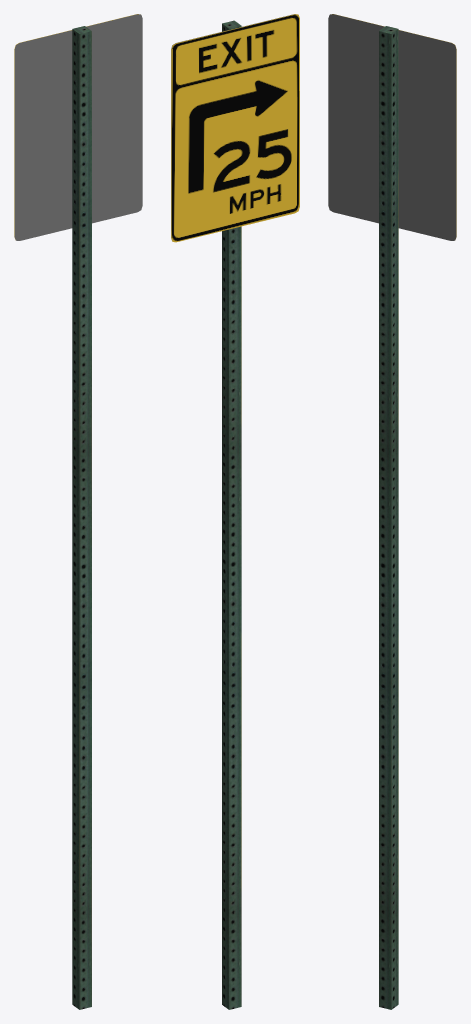
File: GSDSign330.FBX
The picture shows the model from 3 angles, left to right: view 1: azimuth 30°, elevation 25°; view 2: azimuth 210°, elevation 25°; view 3: azimuth 330°, elevation 25°; orthographic projection.
Parts seen in each view (by area): view 1: GSDSign330; view 2: GSDSign330; view 3: GSDSign330.
Boxes of the visible parts, <box> form: GSDSign330: <box>14,14,142,1009</box>; GSDSign330: <box>171,14,299,1009</box>; GSDSign330: <box>328,14,456,1009</box>.
Bounding box in the file's own units: 0.3085 × 2.25 × 0.031.
1 material, 1 textured.
